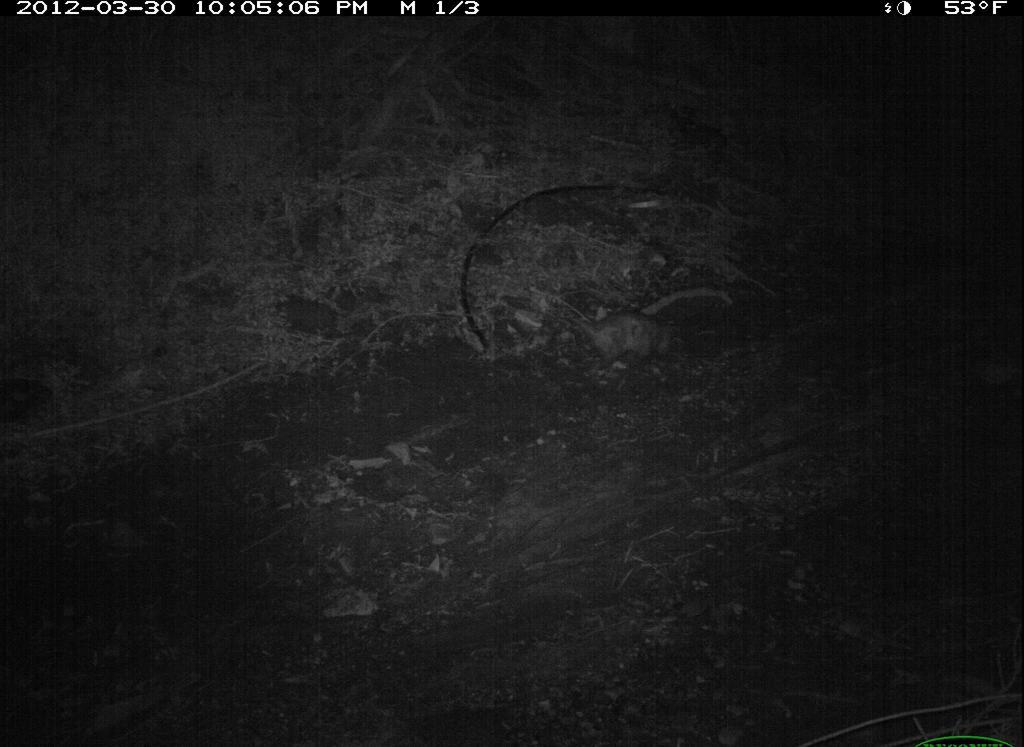opossum: (555, 296, 713, 378)
